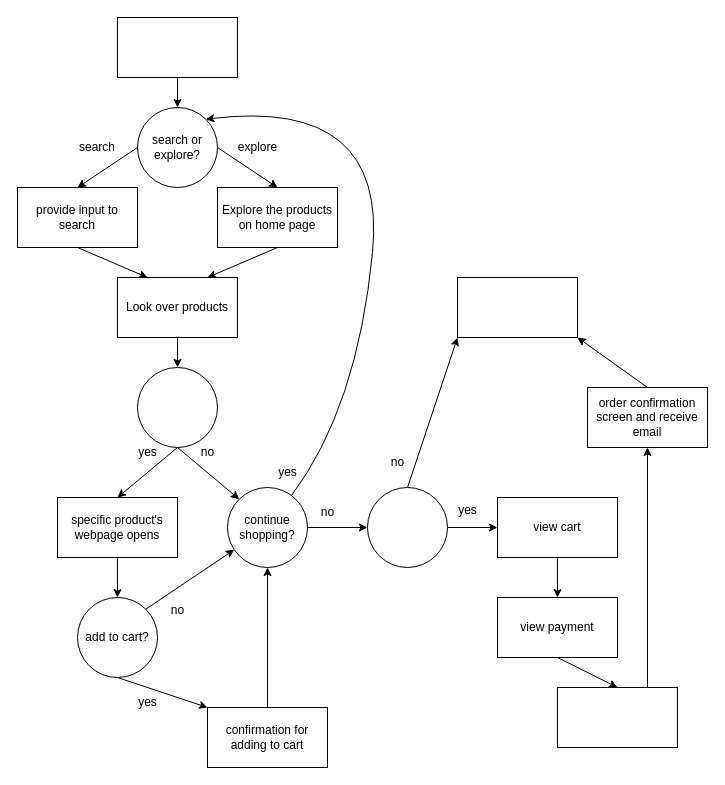
This 725x785 diagram has some shape labels left out. Each missing label, with the box of its shape:
checkout?: (366, 486, 448, 568)
Enter the website: (116, 16, 238, 78)
give input of payment information: (556, 686, 678, 748)
leave website: (456, 276, 578, 338)
view specific product?: (136, 366, 218, 448)
